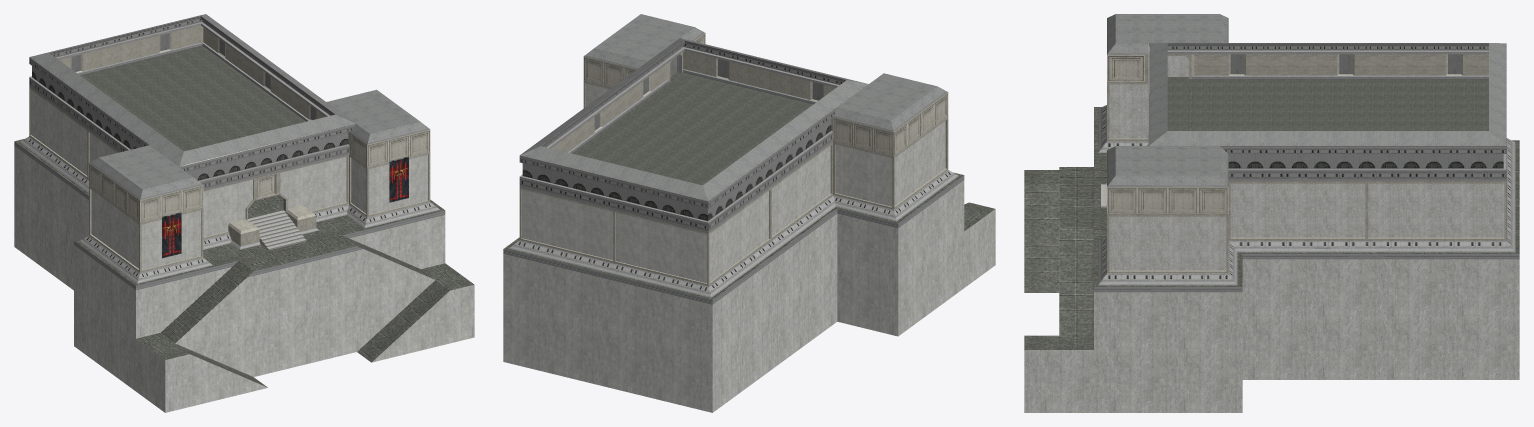
File: ply_corl_assoc_hall_civ_s01_r0_exterior_mesh_exterior_l0.fbx
The picture shows the model from 3 angles, left to right: view 1: azimuth 30°, elevation 25°; view 2: azimuth 150°, elevation 25°; view 3: azimuth 270°, elevation 25°; orthographic projection. The views are drawn at different scales.
Parts seen in each view (by area): view 1: mesh_node; view 2: mesh_node; view 3: mesh_node.
Part boxes in pixels (x1=…): mesh_node: x1=14, y1=14, x2=474, y2=412; mesh_node: x1=503, y1=14, x2=995, y2=412; mesh_node: x1=1024, y1=14, x2=1519, y2=412.
Size of the model in its own units: 49 by 30 by 57.
